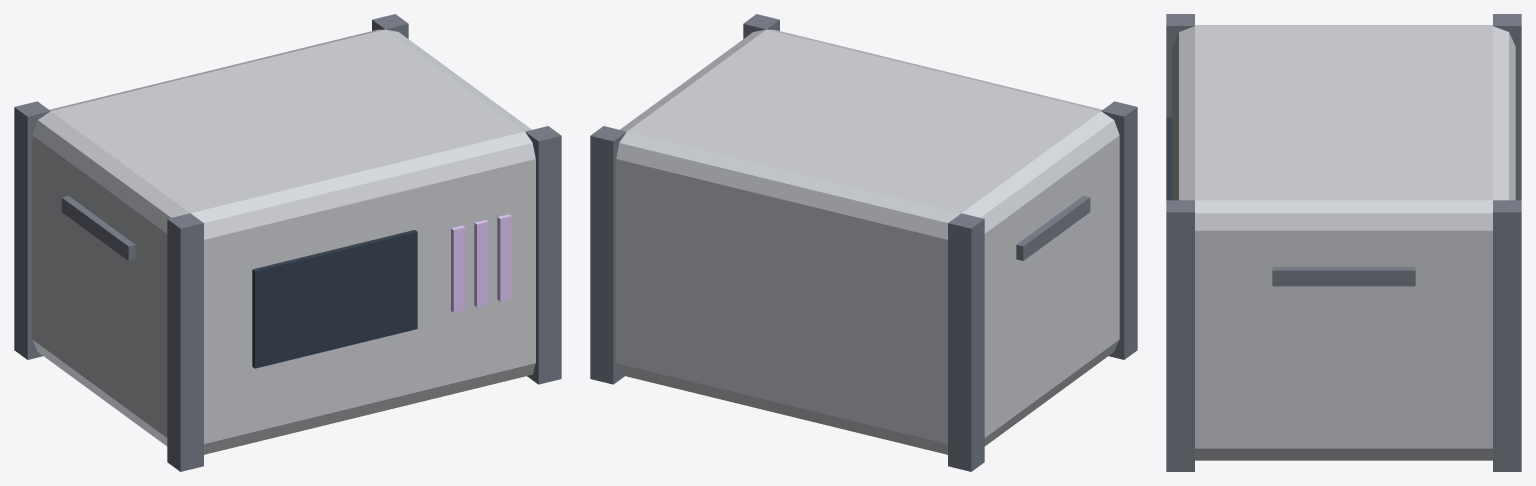
Rendered from PR_Conteiner_Celulas.fbx.
The picture shows the model from 3 angles, left to right: view 1: azimuth 30°, elevation 25°; view 2: azimuth 150°, elevation 25°; view 3: azimuth 270°, elevation 25°; orthographic projection. The views are drawn at different scales.
Visible parts, largest first — view 1: PR_Conteiner_Celulas; view 2: PR_Conteiner_Celulas; view 3: PR_Conteiner_Celulas.
Boxes of the visible parts, <box> form: PR_Conteiner_Celulas: <box>14,14,561,471</box>; PR_Conteiner_Celulas: <box>590,14,1137,471</box>; PR_Conteiner_Celulas: <box>1166,14,1521,471</box>.
Size of the model in its own units: 1.66 by 1 by 1.24.
